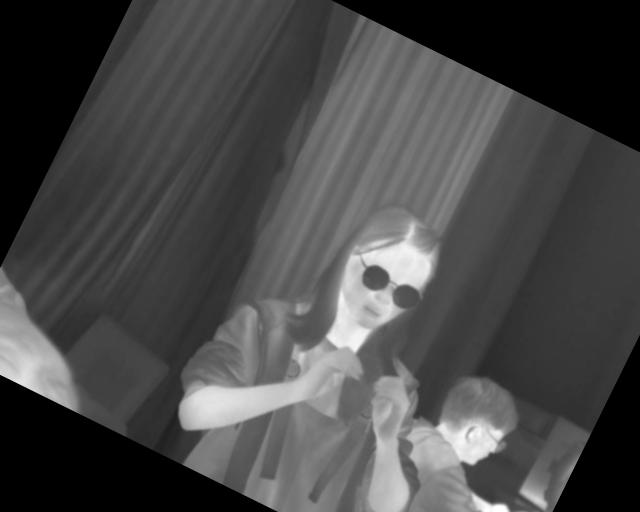face: (319, 193, 456, 346)
